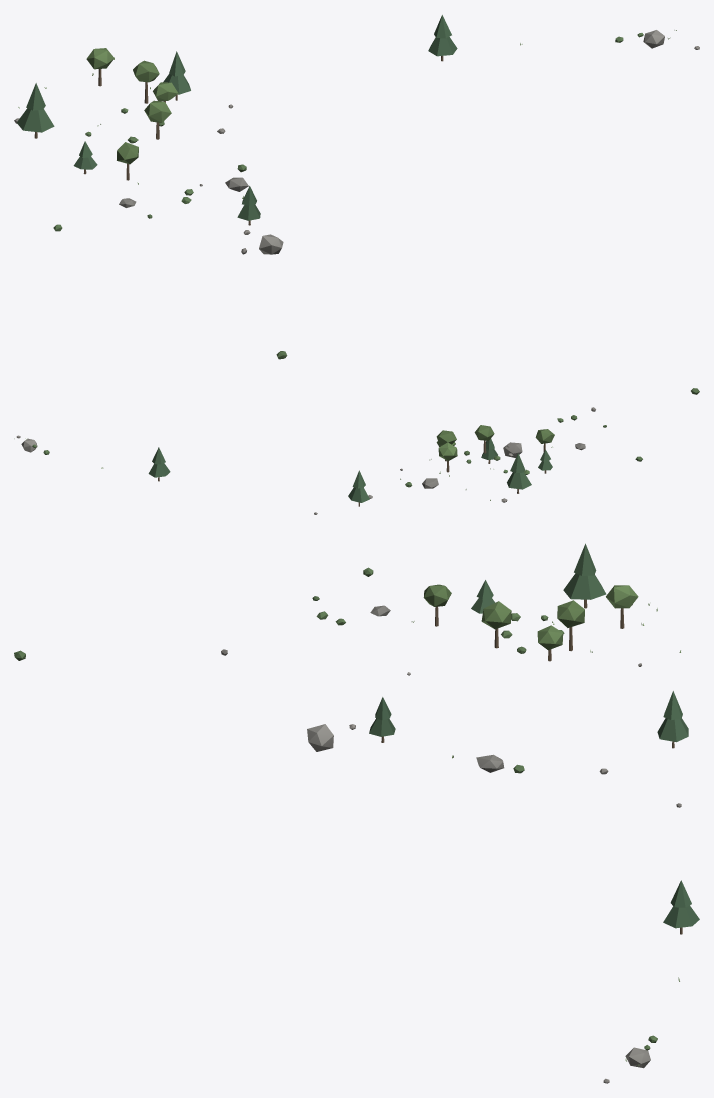
Rendered from arch_land_scatter_c17_19_lod1.glb.
3 views of the same model, one above another, from view 1: azimuth 30°, elevation 25°; view 2: azimuth 150°, elevation 25°; view 3: azimuth 270°, elevation 25° (orthographic). The views are drawn at different scales.
Visible parts, largest first — view 1: arch_land_scatter_c17_19_lod1; view 2: arch_land_scatter_c17_19_lod1; view 3: arch_land_scatter_c17_19_lod1.
Part boxes in pixels (x1,y1,x2,y2): arch_land_scatter_c17_19_lod1: (14,15,699,359); arch_land_scatter_c17_19_lod1: (14,388,699,514); arch_land_scatter_c17_19_lod1: (14,543,699,1083).
Bounding box in the file's own units: 184 × 32.9 × 126.
